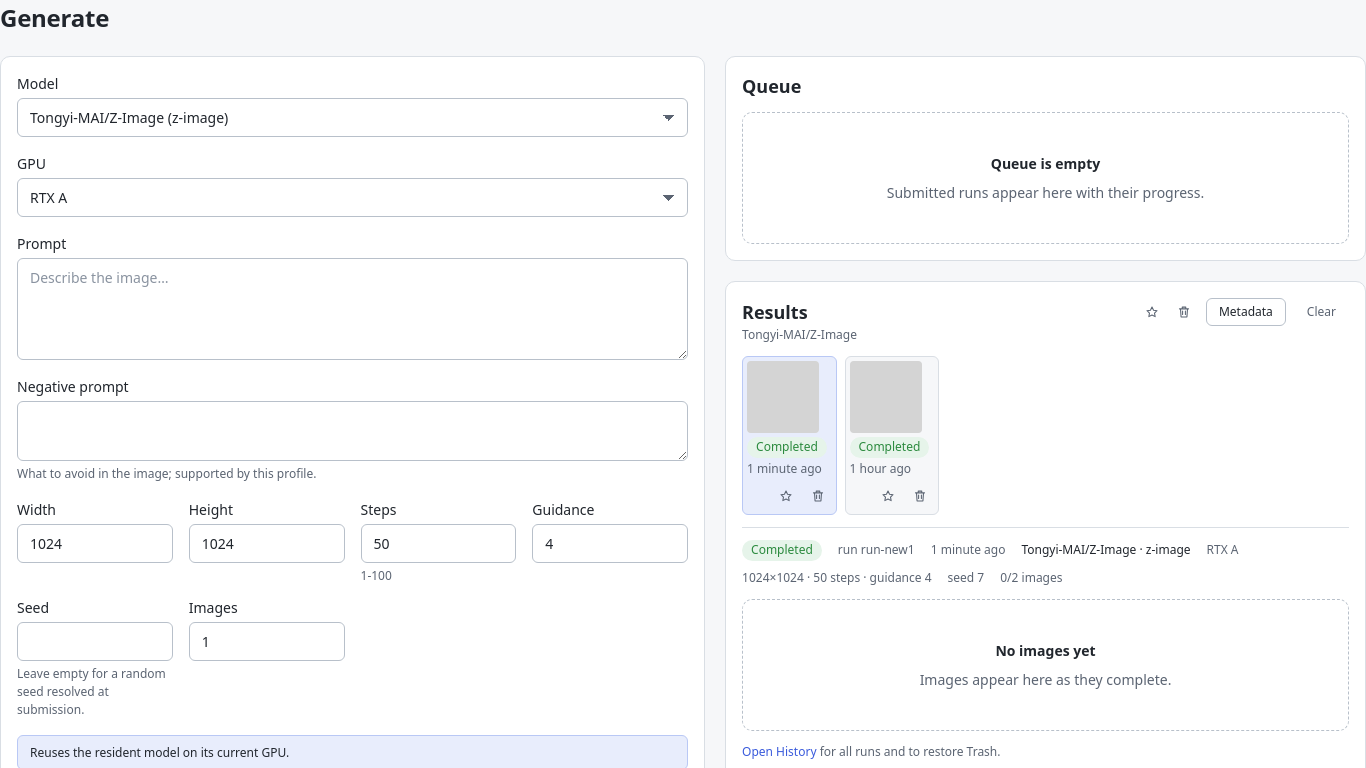
GeneratePage › shows an older run's detail when picked from the list
Check: the text box named "Prompt" is shown, box [17,258,688,360]
Click the button titled "older run": (892, 419) [850,361,934,478]
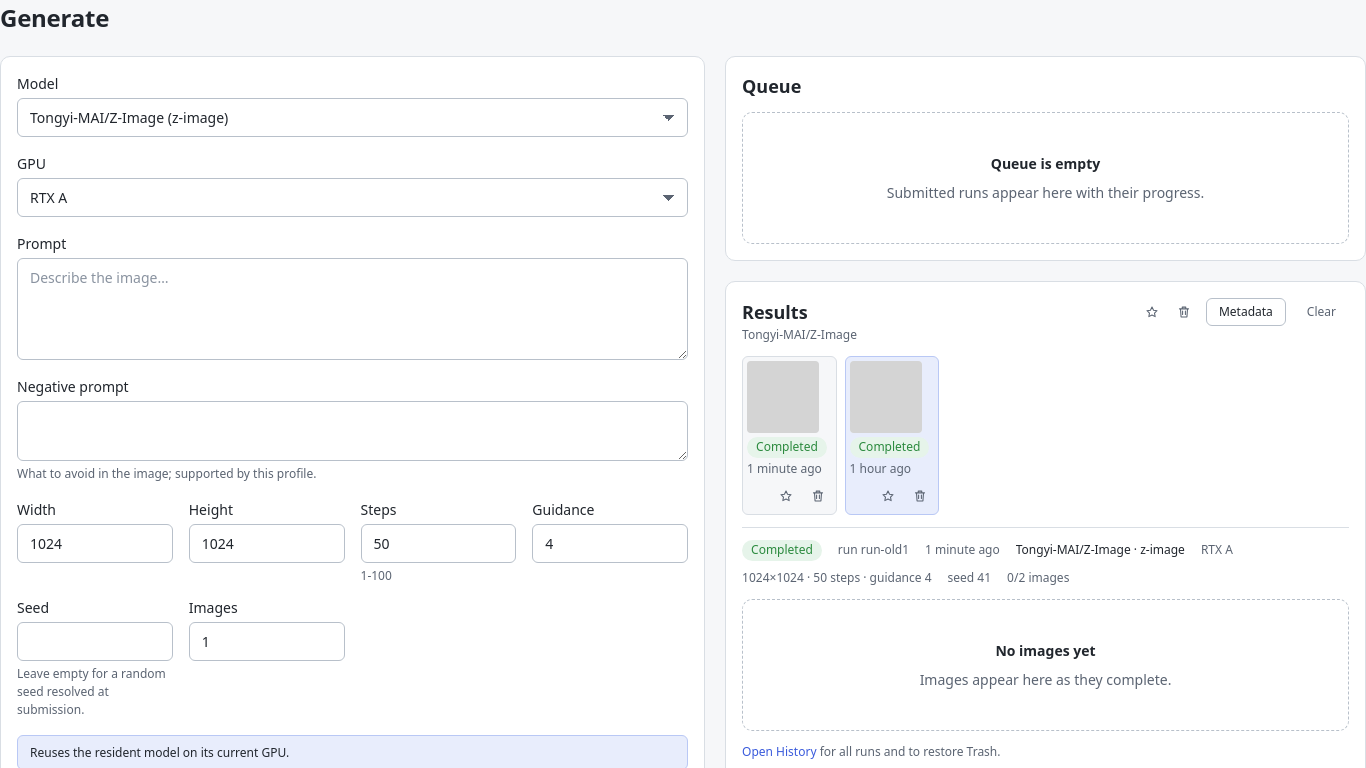
Check: the text "seed 41" is shown, box [948,569,991,587]
